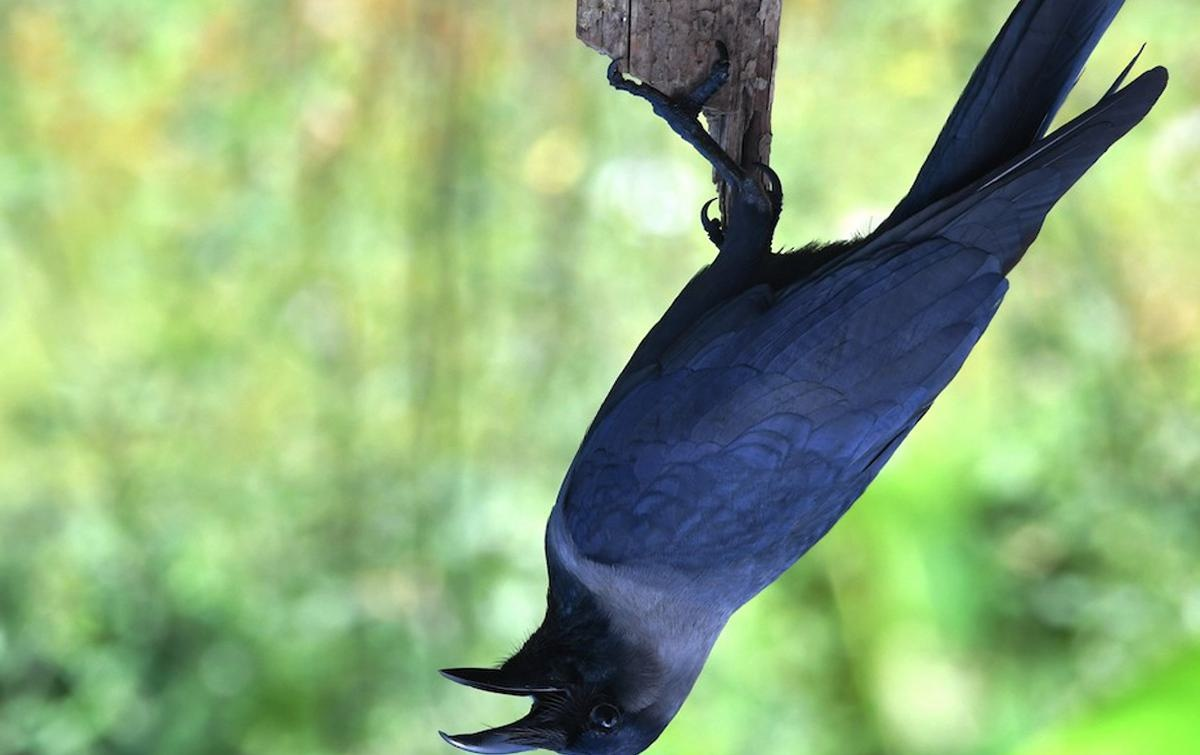crow: (441, 24, 1127, 752)
